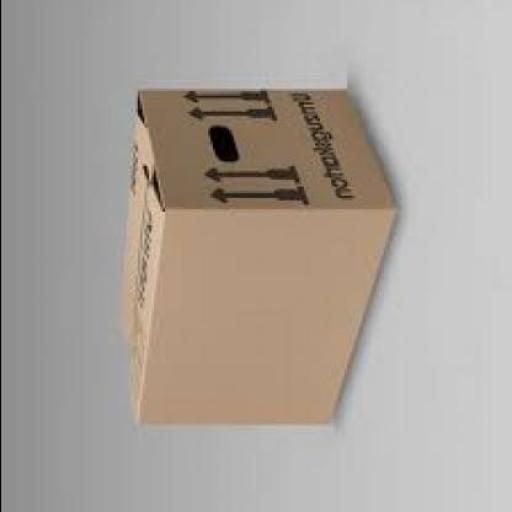cardboard: (121, 88, 396, 426)
